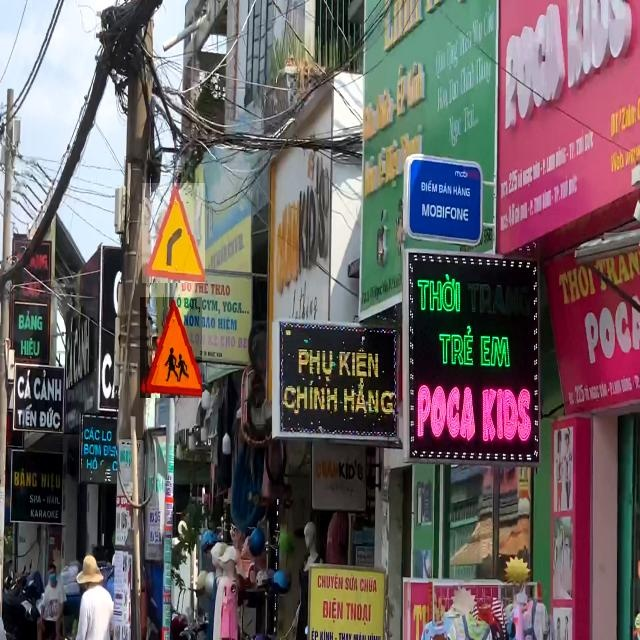bien_nguy_hiem: (142, 183, 205, 283), (140, 297, 202, 398)
